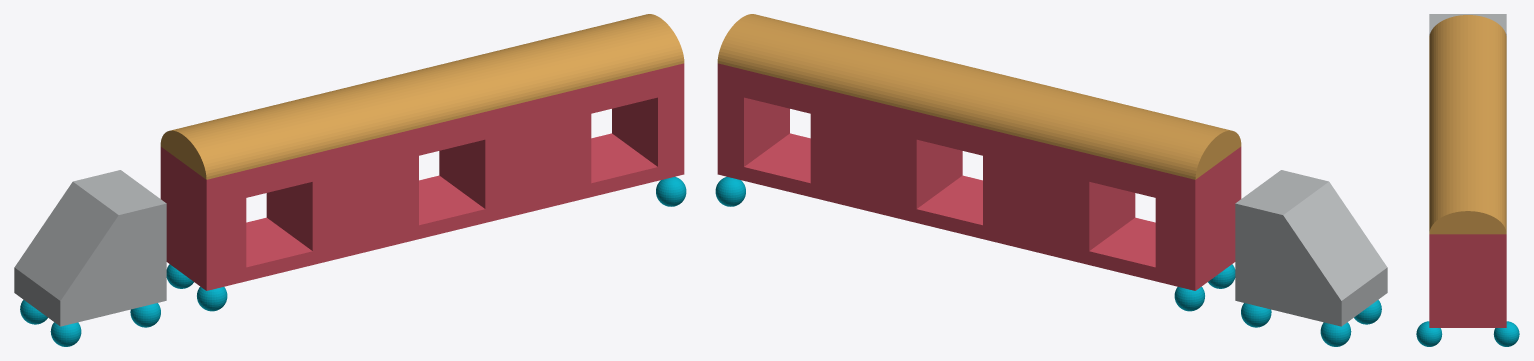
Rendered from Train Toy.glb.
3 views of the same model, side by side, from view 1: azimuth 30°, elevation 25°; view 2: azimuth 150°, elevation 25°; view 3: azimuth 270°, elevation 25° (orthographic). The views are drawn at different scales.
Parts seen in each view (by area): view 1: Mesh_Mesh_head_geo.001_lambert2SG.001; view 2: Mesh_Mesh_head_geo.001_lambert2SG.001; view 3: Mesh_Mesh_head_geo.001_lambert2SG.001.
Boxes of the visible parts, <box> form: Mesh_Mesh_head_geo.001_lambert2SG.001: <box>14,14,686,346</box>; Mesh_Mesh_head_geo.001_lambert2SG.001: <box>715,14,1387,346</box>; Mesh_Mesh_head_geo.001_lambert2SG.001: <box>1416,14,1519,346</box>.
Bounding box in the file's own units: 47 × 12 × 8.
